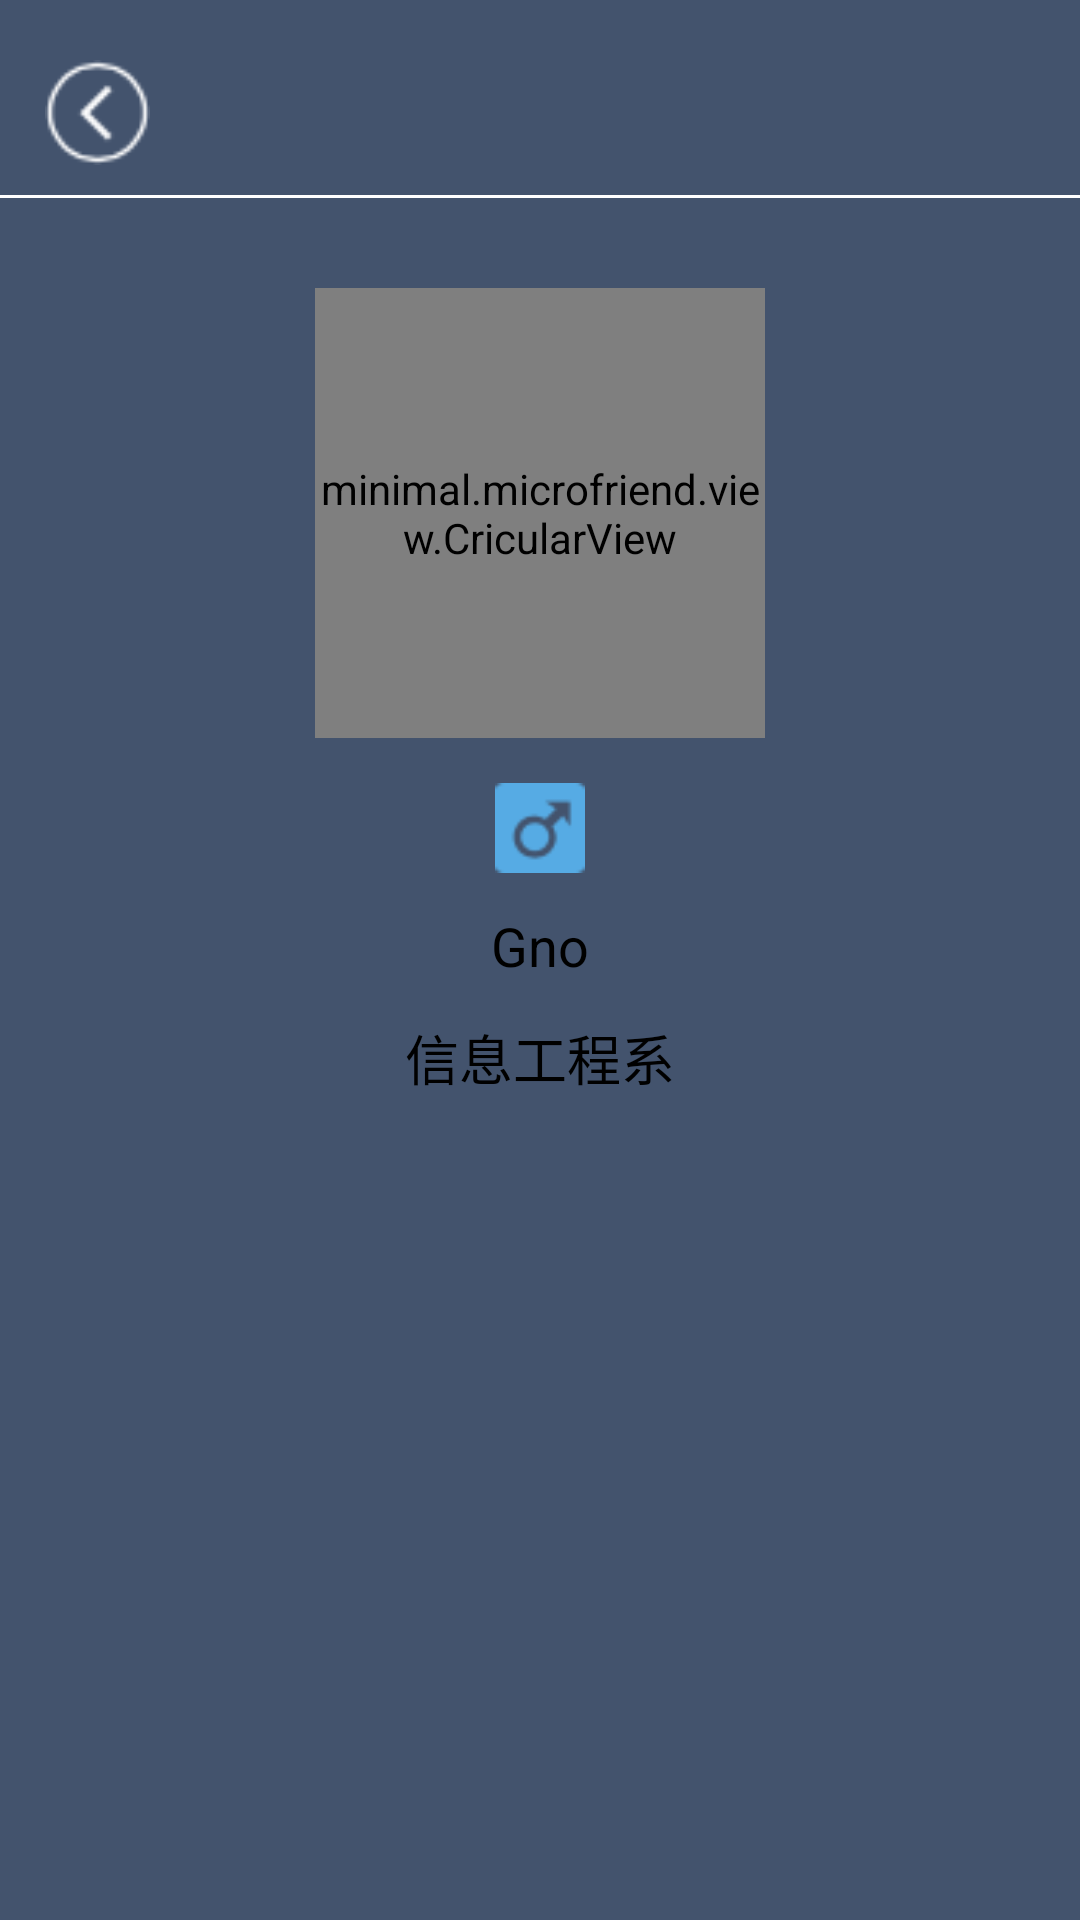

Where icons sit on this 1080x1920 app screen, as [x1, y1, x2, y2]:
boy select: [495, 783, 585, 873]
return: [45, 62, 150, 163]
